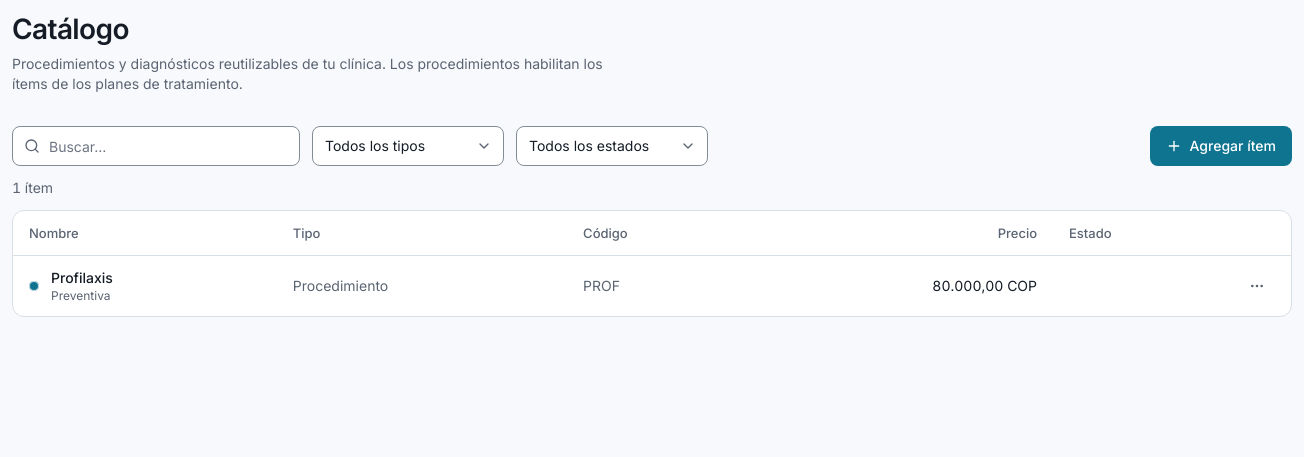
Test: CatalogView › búsqueda y filtros (en servidor) › sin resultados ofrece limpiar los filtros; el catálogo vacío no
Expected: the table named "catálogo" is shown, 13,211 -> 1291,316
Type "zzz" into the search field named "buscar por nombre" at (156, 146), box 12,126 -> 300,166
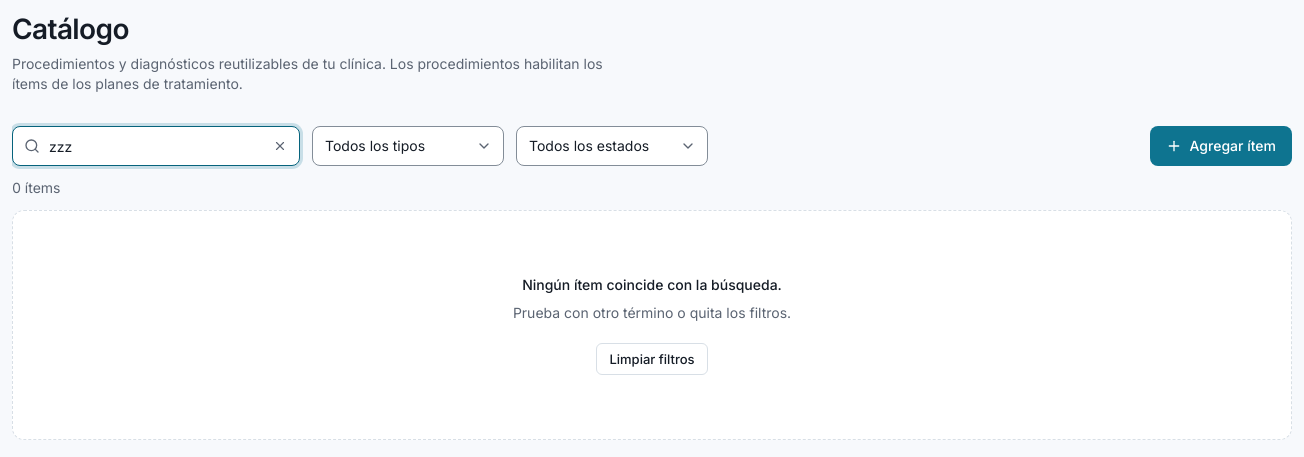
Expected: the text "Ningún ítem coincide con la búsqueda." is shown, 522,275 -> 782,295
Expected: the button "Limpiar filtros" is shown, 596,343 -> 708,375
